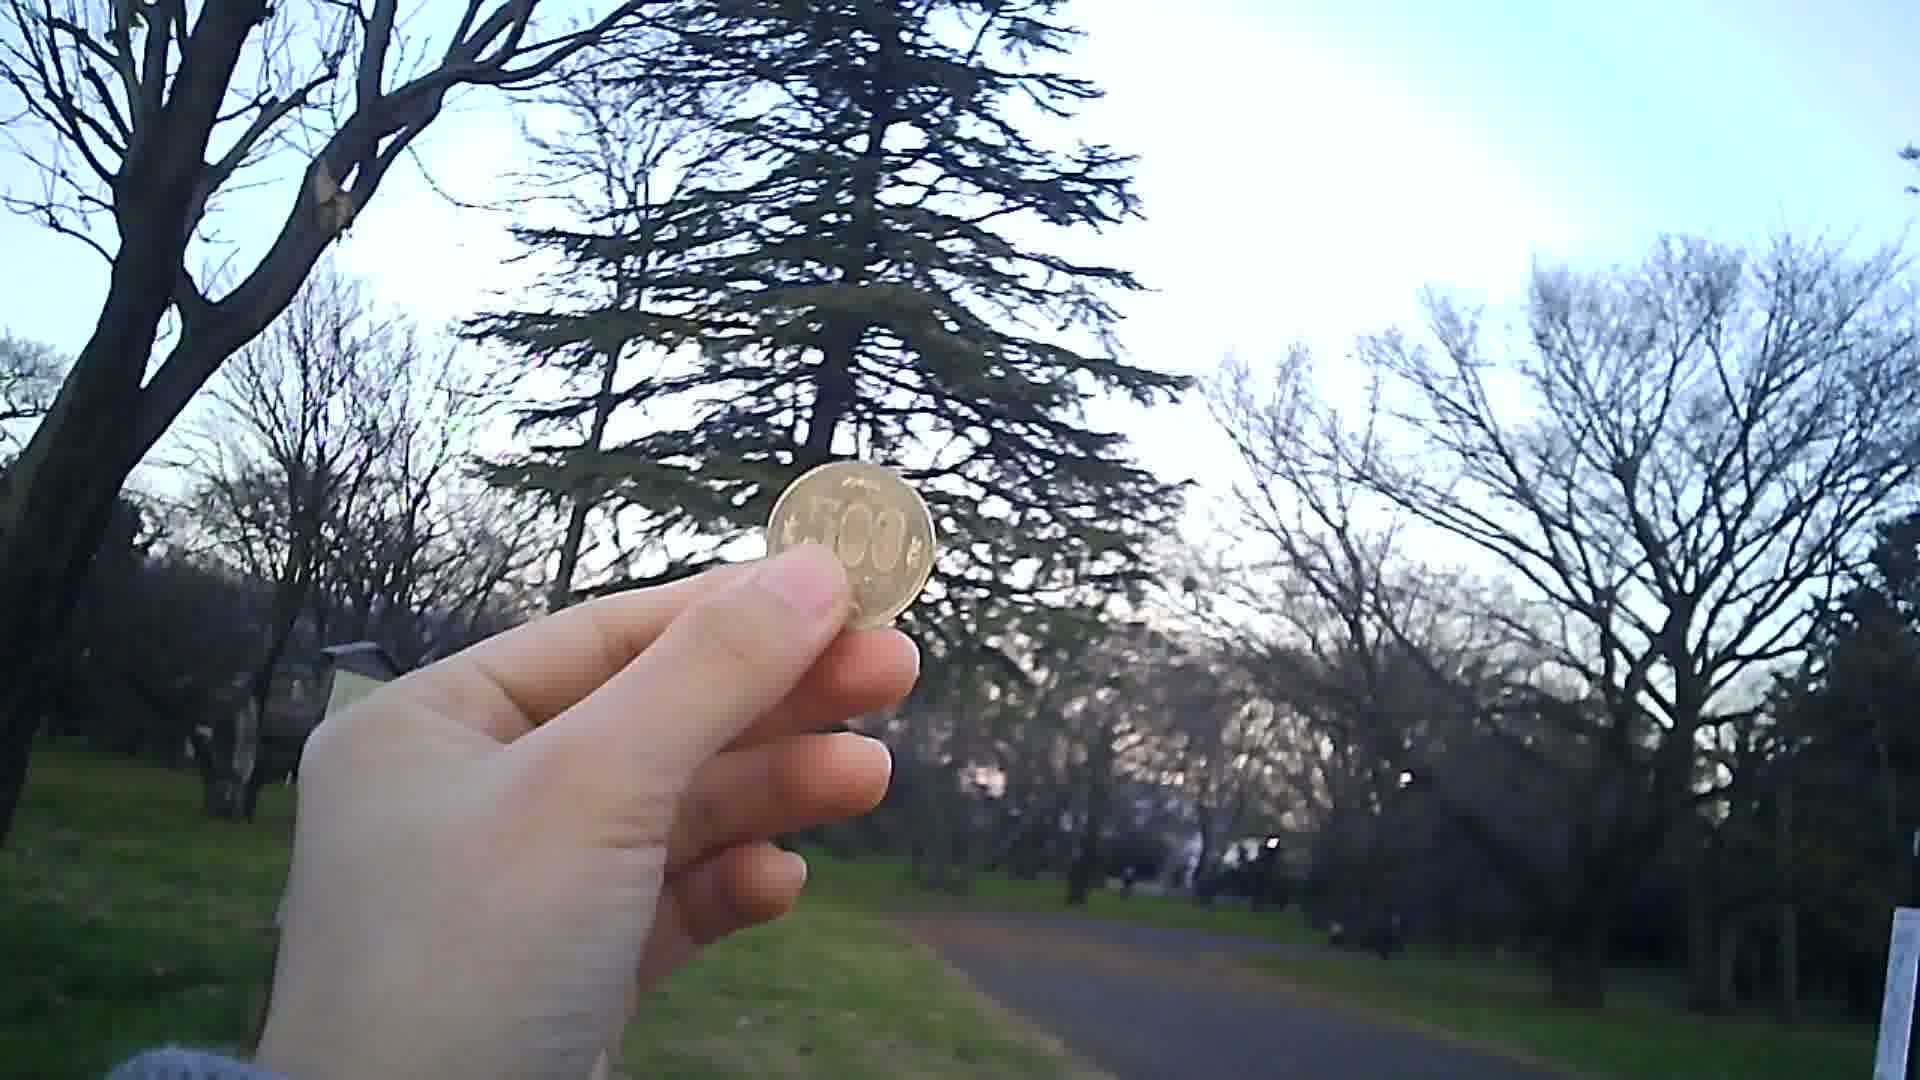500 Yen: (760, 460, 943, 640)
